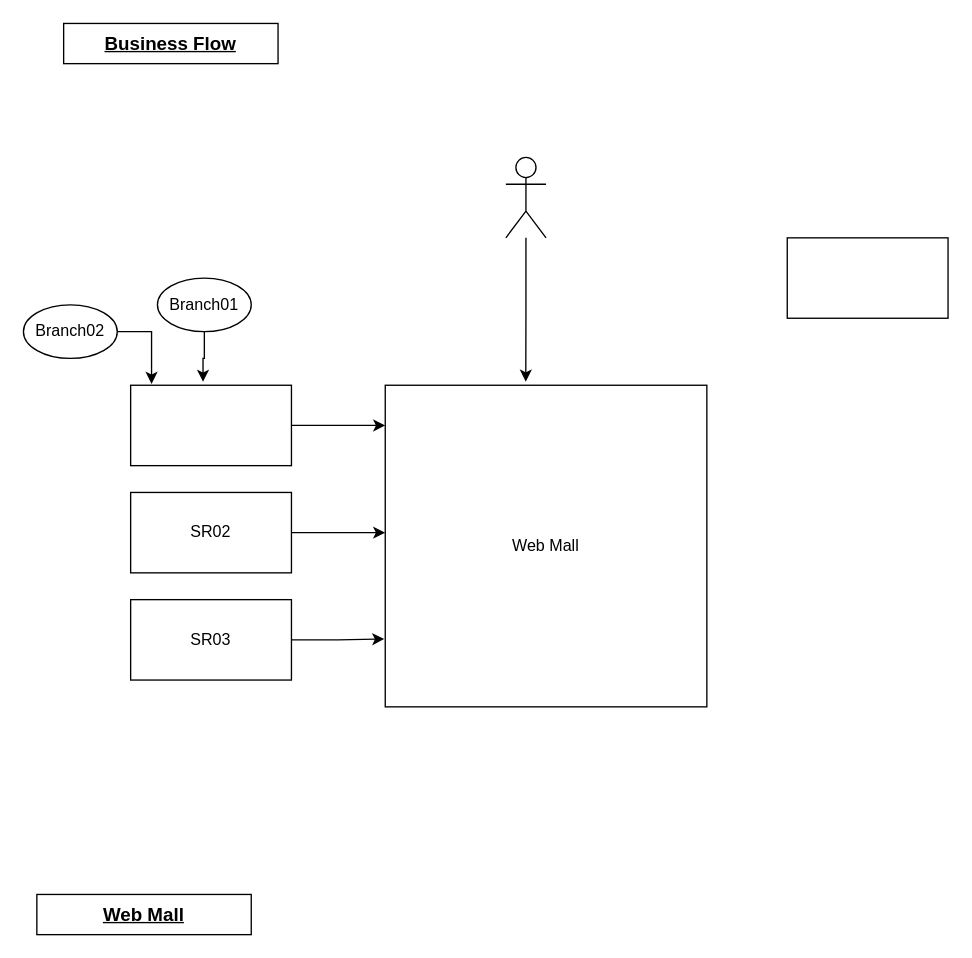
The diagram is 972 pixels wide and 958 high, and some of its shapes have lost their labels. The centre of each missing label's shape, as x and y in pixels:
"Head Office" goes at point (867, 277).
"SR01" goes at point (210, 425).
"User01" goes at point (525, 197).
